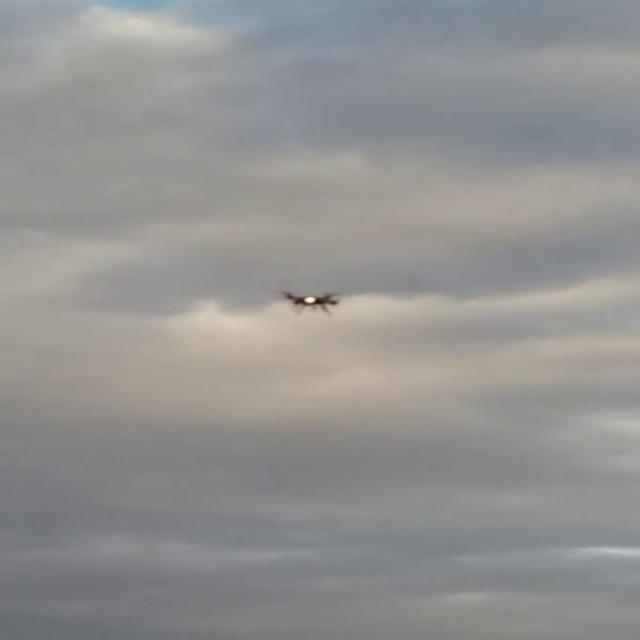drone: (277, 286, 346, 316)
